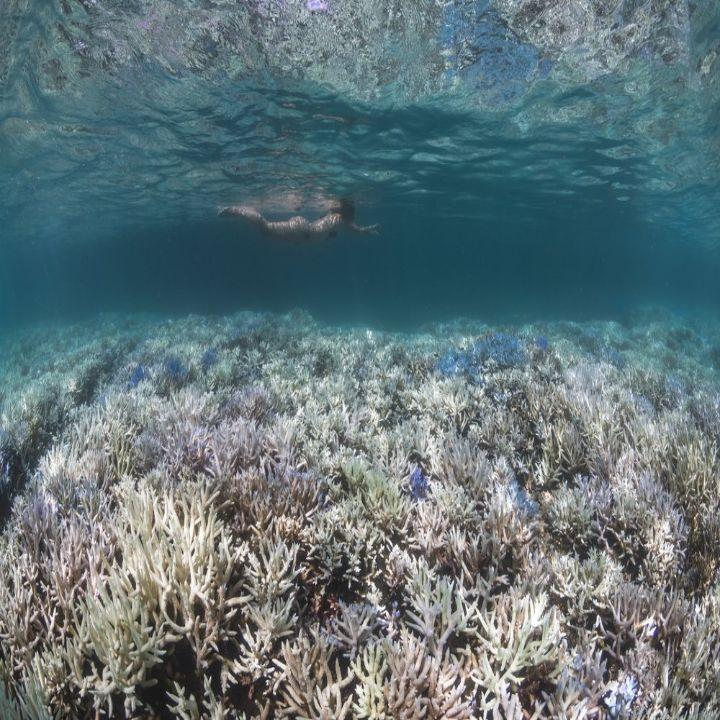Bleached disease: (45, 352, 671, 645)
